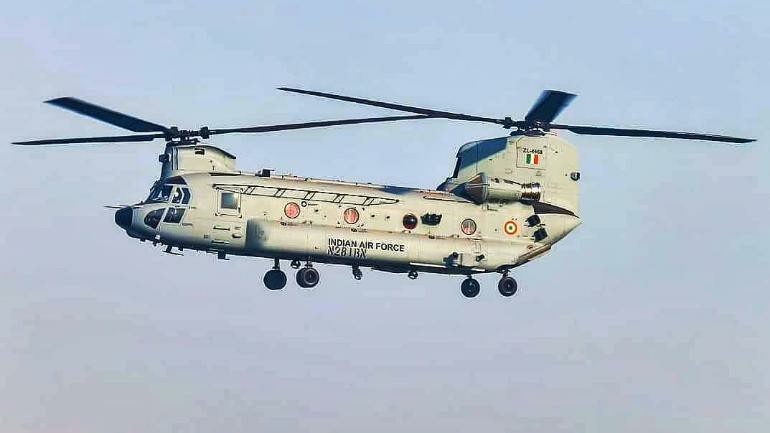chinook: (73, 85, 587, 307)
